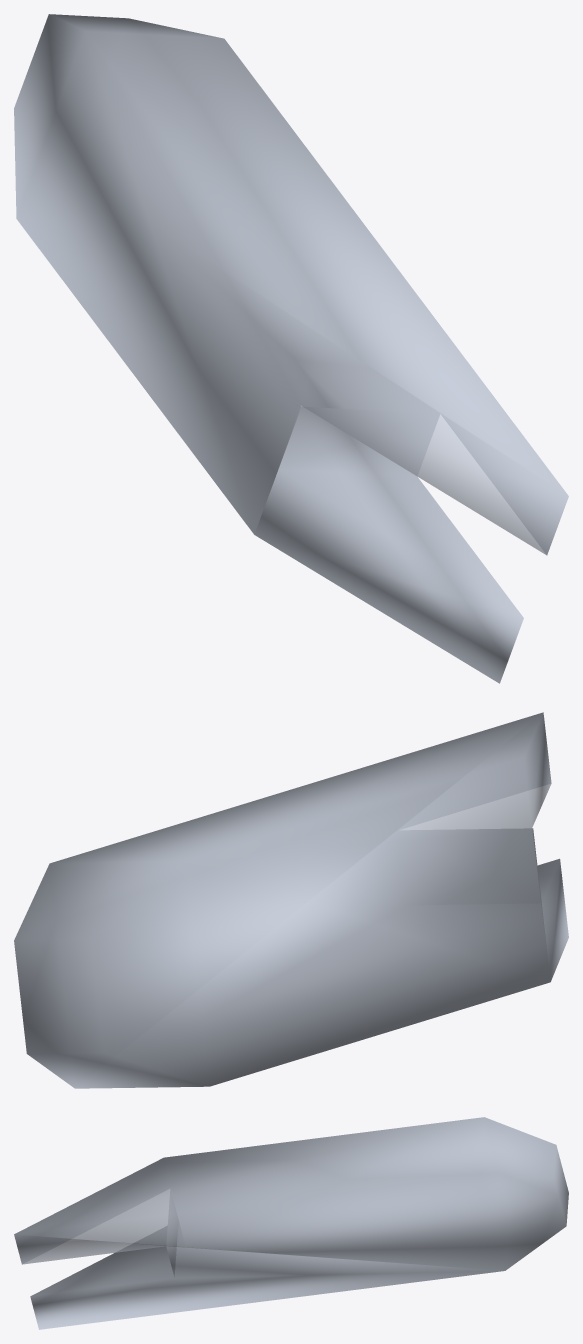
File: original-8.obj
3 views of the same model, one above another, from view 1: azimuth 30°, elevation 25°; view 2: azimuth 150°, elevation 25°; view 3: azimuth 270°, elevation 25° (orthographic). The views are drawn at different scales.
Visible parts, largest first — view 1: Group7/mesh7/mesh7-geometry#mesh7-geometry; view 2: Group7/mesh7/mesh7-geometry#mesh7-geometry; view 3: Group7/mesh7/mesh7-geometry#mesh7-geometry.
Part boxes in pixels (x1,y1,x2,y2): Group7/mesh7/mesh7-geometry#mesh7-geometry: (14,14,568,683); Group7/mesh7/mesh7-geometry#mesh7-geometry: (14,712,568,1088); Group7/mesh7/mesh7-geometry#mesh7-geometry: (14,1117,568,1329).
Size of the model in its own units: 0.0305 by 0.0468 by 0.1133.
